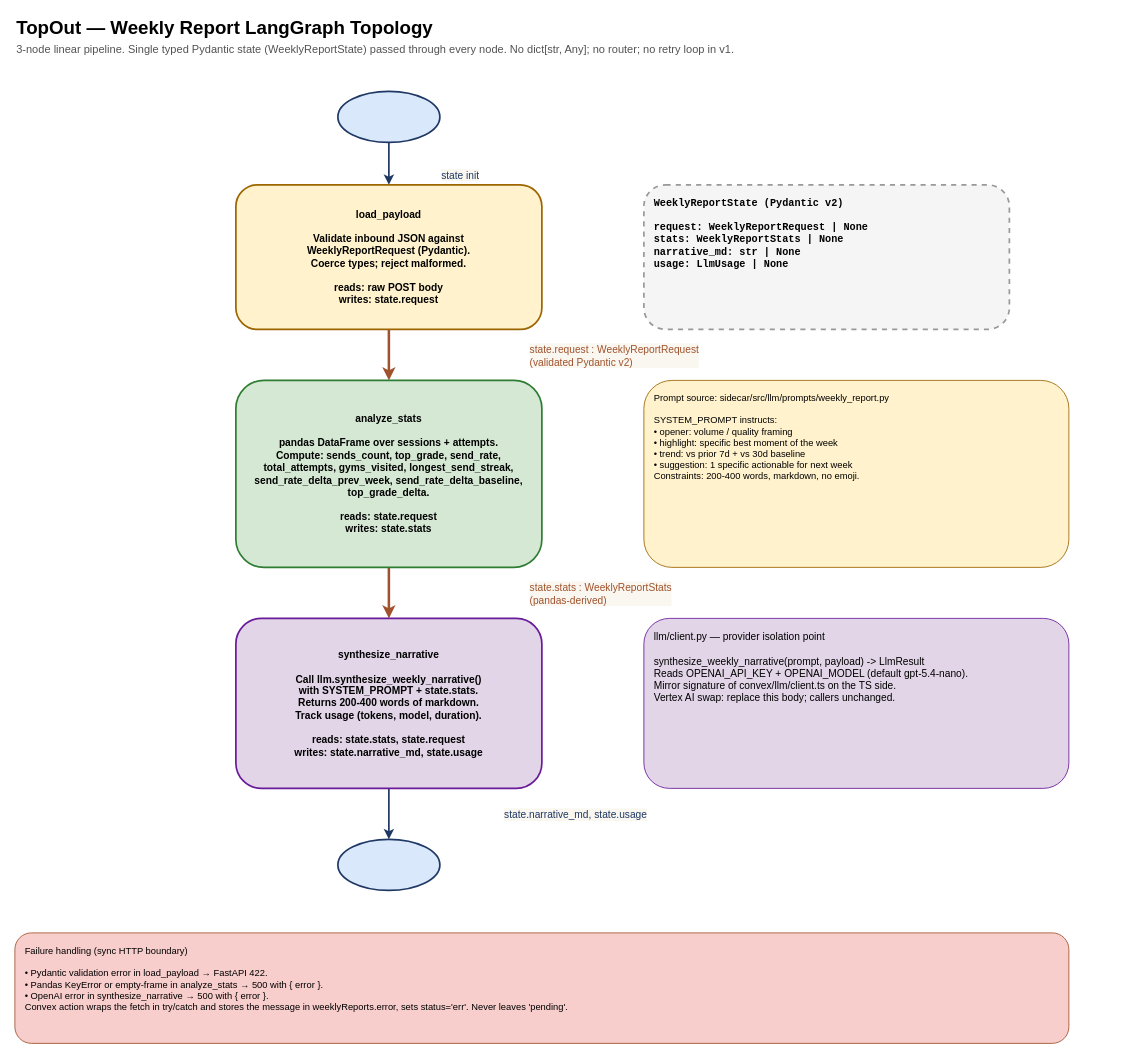
This 1135x1058 diagram has some shape labels left out. Here are the shapes that lost their labels. From the top down, the centre of each, then its label:
point (388, 116): START
point (388, 864): END
